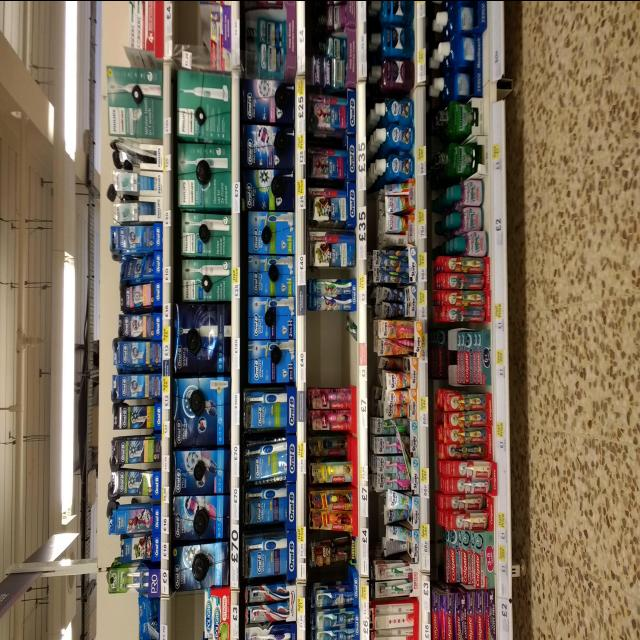empty_space: (313, 315, 347, 383)
